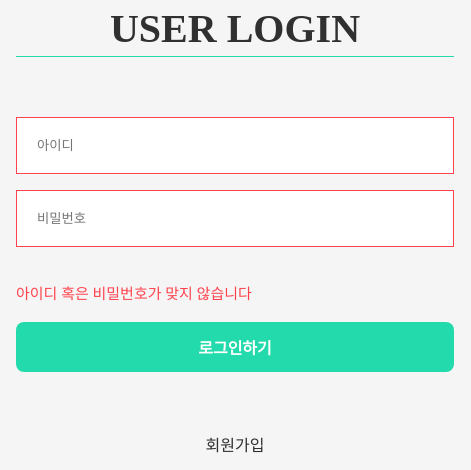
Test case: LoginForm › 로그인에 실패했을 때 › 아이디를 입력하지 않은 경우
The width and height of the screenshot is (471, 470).
Type "Test1234!" into the password field with placeholder "비밀번호".
click(235, 219); type("Test1234!")  # box [16,190,454,247]
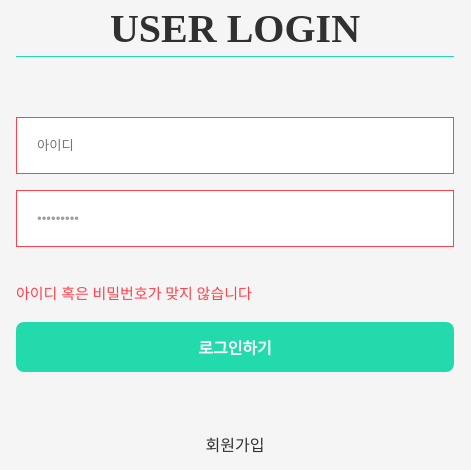
Click the button "로그인하기".
click(235, 347)  # box [16,322,454,372]
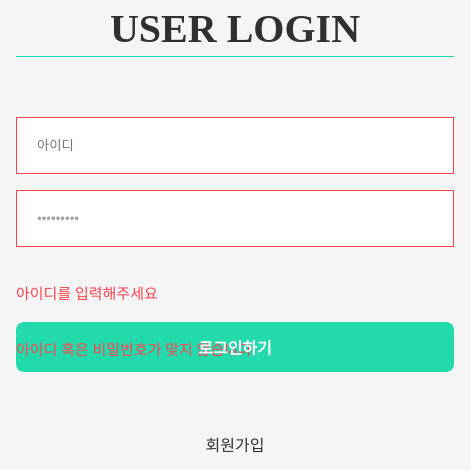
Expected: the text "아이디를 입력해주세요" is shown, [16,286,158,302]
